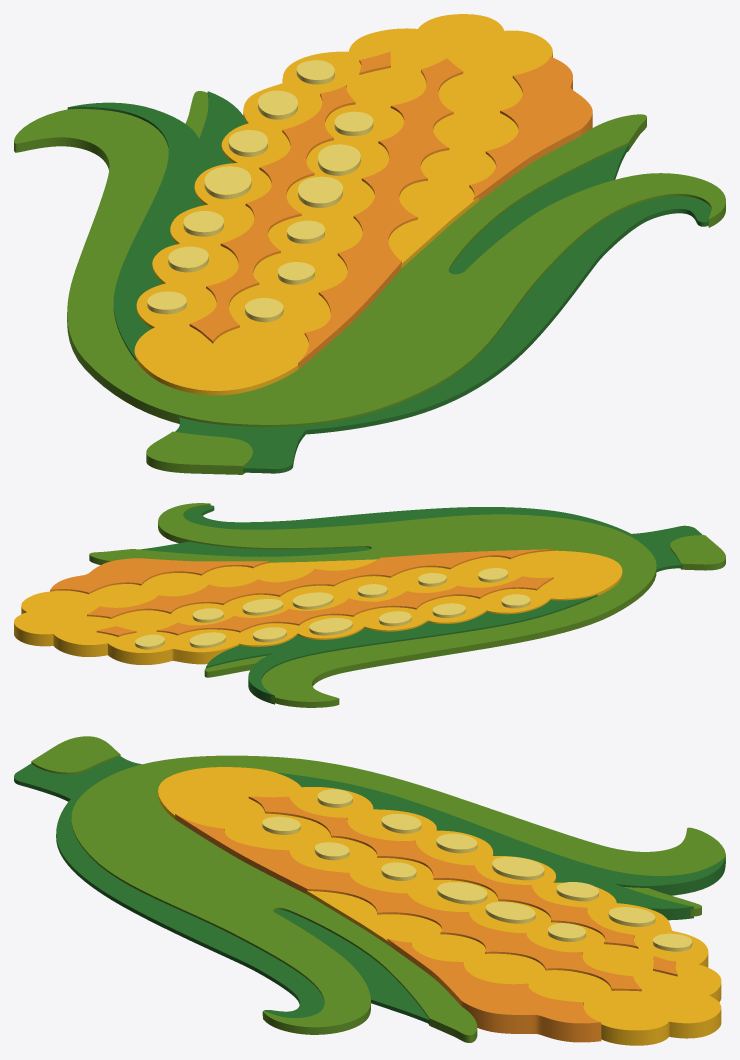
Rendered from emoji_u1f33d.glb.
3 renders of one model, top to bottom at view 1: azimuth 30°, elevation 25°; view 2: azimuth 150°, elevation 25°; view 3: azimuth 270°, elevation 25°, orthographic. The views are drawn at different scales.
Visible parts, largest first — view 1: emoji_u1f33d; view 2: emoji_u1f33d; view 3: emoji_u1f33d.
Part boxes in pixels (x1=…): emoji_u1f33d: x1=14, y1=14, x2=725, y2=474; emoji_u1f33d: x1=14, y1=503, x2=725, y2=707; emoji_u1f33d: x1=14, y1=736, x2=725, y2=1045.
Size of the model in its own units: 0.0337 by 0.0012 by 0.0339.
